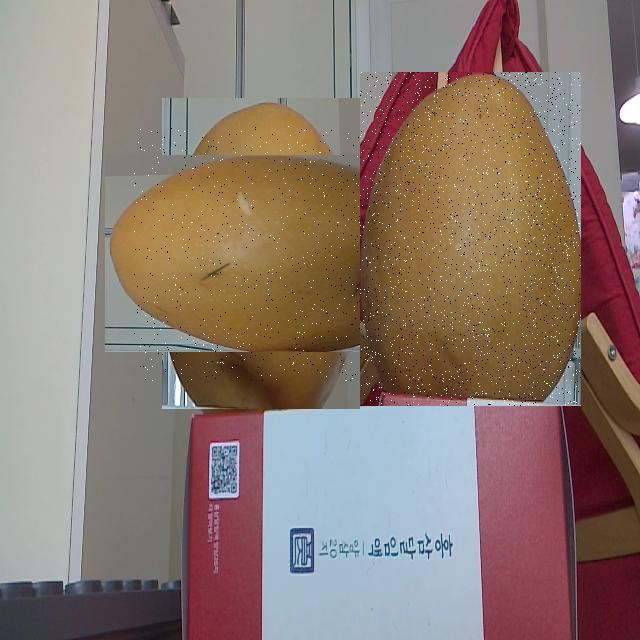pear: (360, 72, 581, 406), (134, 126, 388, 381)
